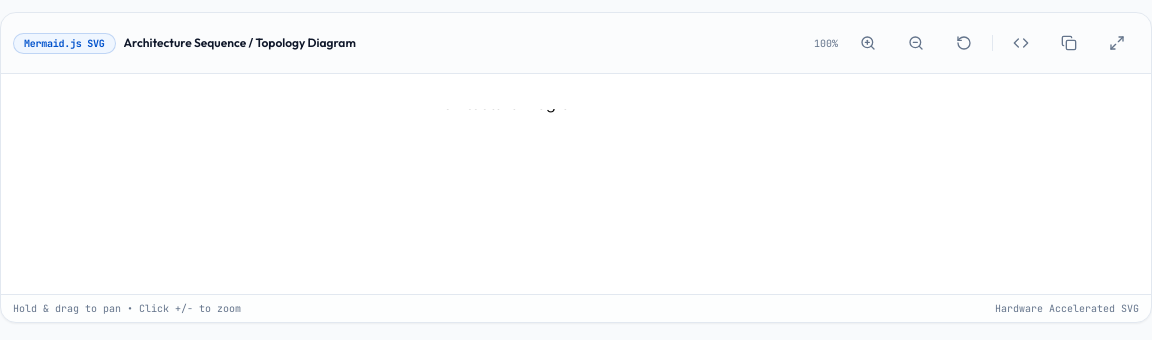
Test: MermaidViewer Component › toggles raw syntax view when code button is clicked
Expected: the icon with test id "mock-mermaid-svg" is shown, [426,109,726,259]
Click the button named "View diagram source".
click(1021, 43)  # box [999,21,1043,65]
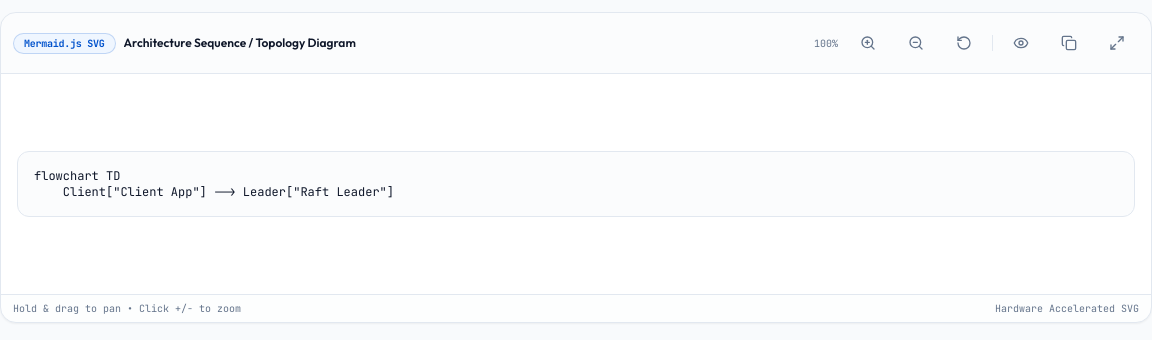
Expected: the text "flowchart TD Client[\"Client App\"] --> Leader[\"Raft Leader\"]" is shown, [34,168,394,200]
